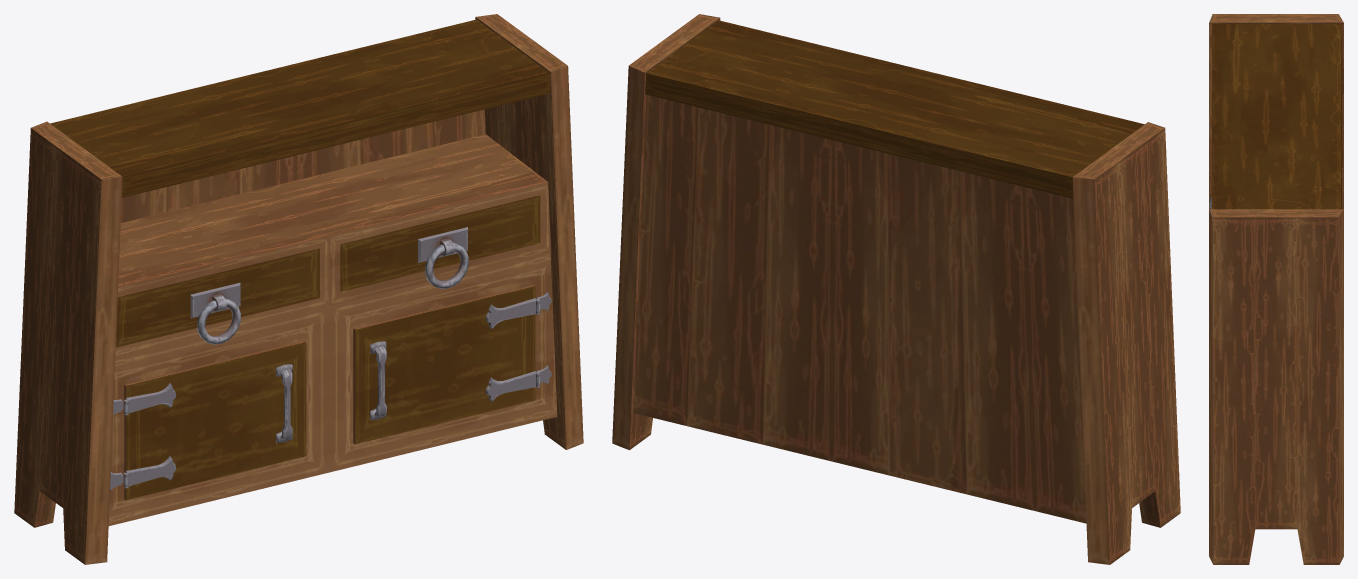
The model's file is Cabinet.glb.
The picture shows the model from 3 angles, left to right: view 1: azimuth 30°, elevation 25°; view 2: azimuth 150°, elevation 25°; view 3: azimuth 270°, elevation 25°; orthographic projection. The views are drawn at different scales.
Parts seen in each view (by area): view 1: Cabinet; view 2: Cabinet; view 3: Cabinet.
Part boxes in pixels (x1,y1,x2,y2): Cabinet: (14,14,583,564); Cabinet: (612,14,1180,564); Cabinet: (1209,14,1343,564).
Size of the model in its own units: 1.36 by 0.9974 by 0.3571.
2 materials, 2 textured.
